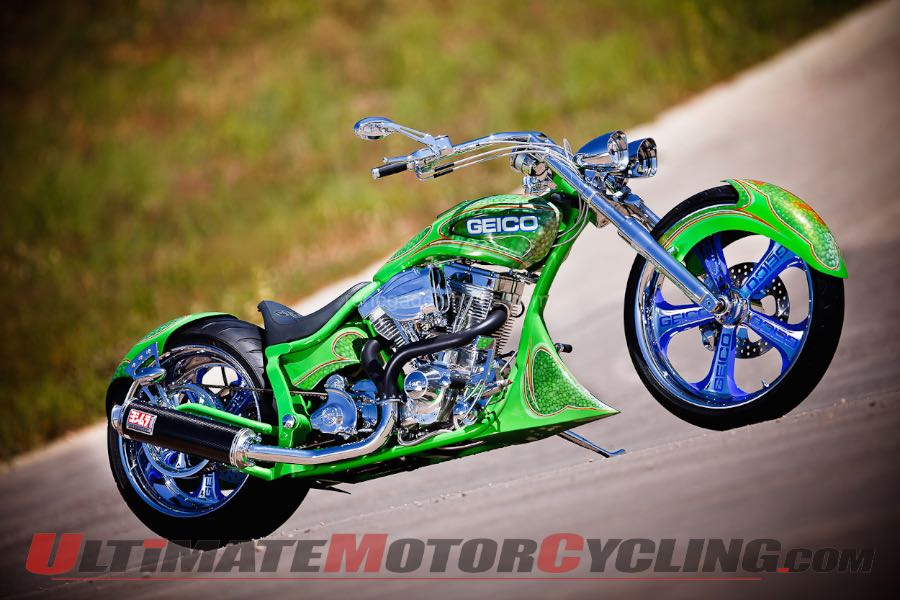Geico: (463, 210, 540, 238)
